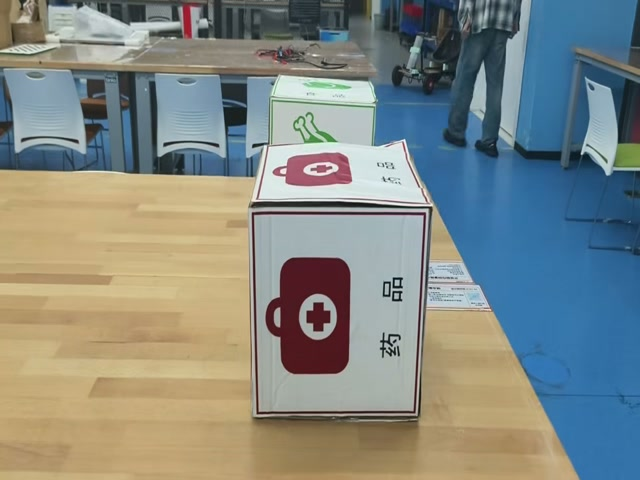Cube_food: (272, 79, 378, 108)
Cube_medicine: (249, 146, 431, 216)
